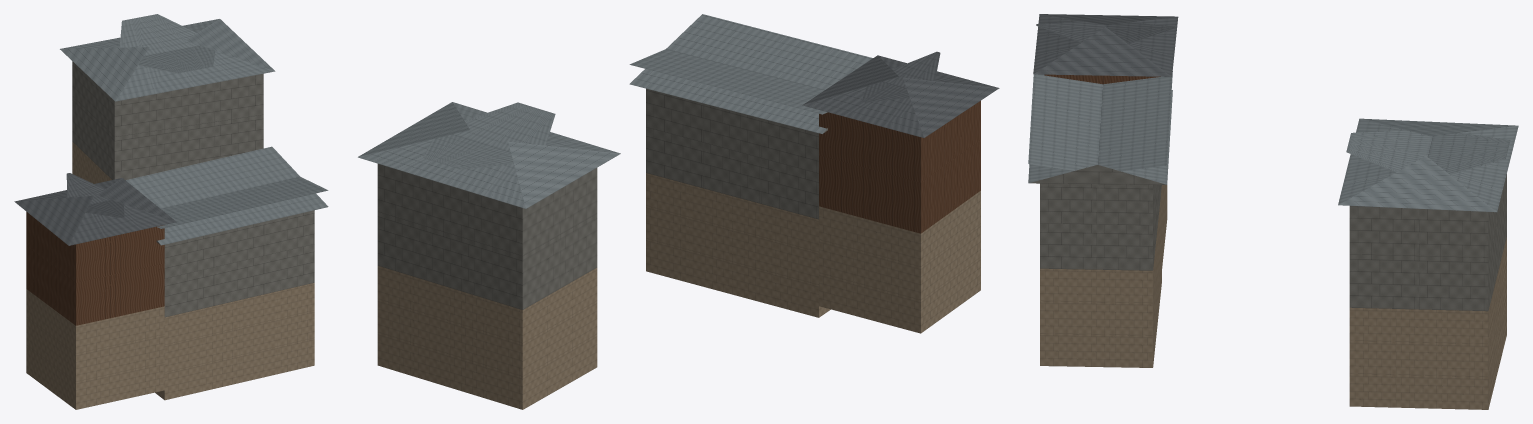
File: bld_c0_10_493.gltf
3 views of the same model, side by side, from view 1: azimuth 30°, elevation 25°; view 2: azimuth 150°, elevation 25°; view 3: azimuth 270°, elevation 25° (orthographic). The views are drawn at different scales.
Visible parts, largest first — view 1: bld_c0_10_493; view 2: bld_c0_10_493; view 3: bld_c0_10_493.
Boxes of the visible parts, bbox=[...] form: bld_c0_10_493: bbox=[14, 14, 328, 409]; bld_c0_10_493: bbox=[358, 14, 999, 409]; bld_c0_10_493: bbox=[1028, 14, 1518, 409].
Size of the model in its own units: 21.96 by 11.9 by 22.95.
6 materials, 6 textured.
